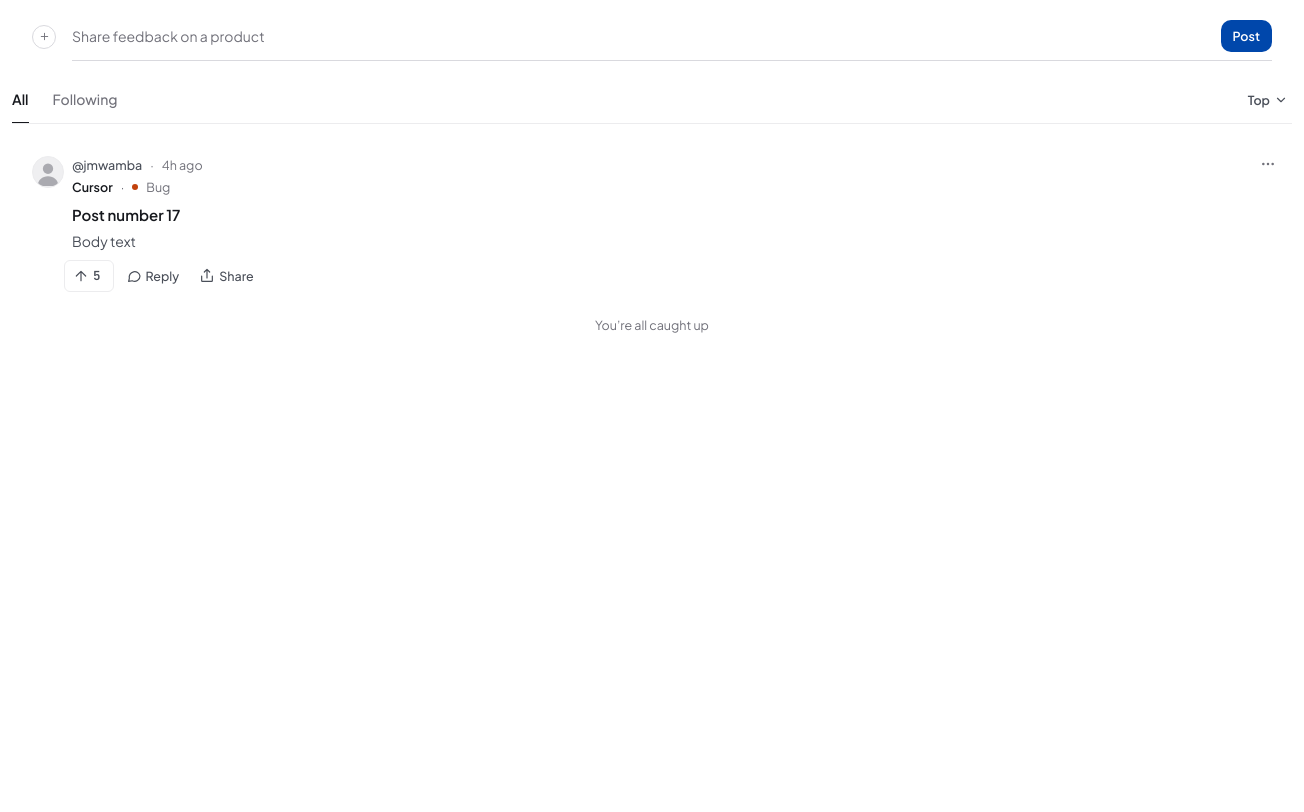
Test: voting › updates the count at once and keeps it when the write lands
The width and height of the screenshot is (1304, 812).
Click the button named "Upvote, 5 votes" at {"x": 89, "y": 276}, box [64,260,114,292]
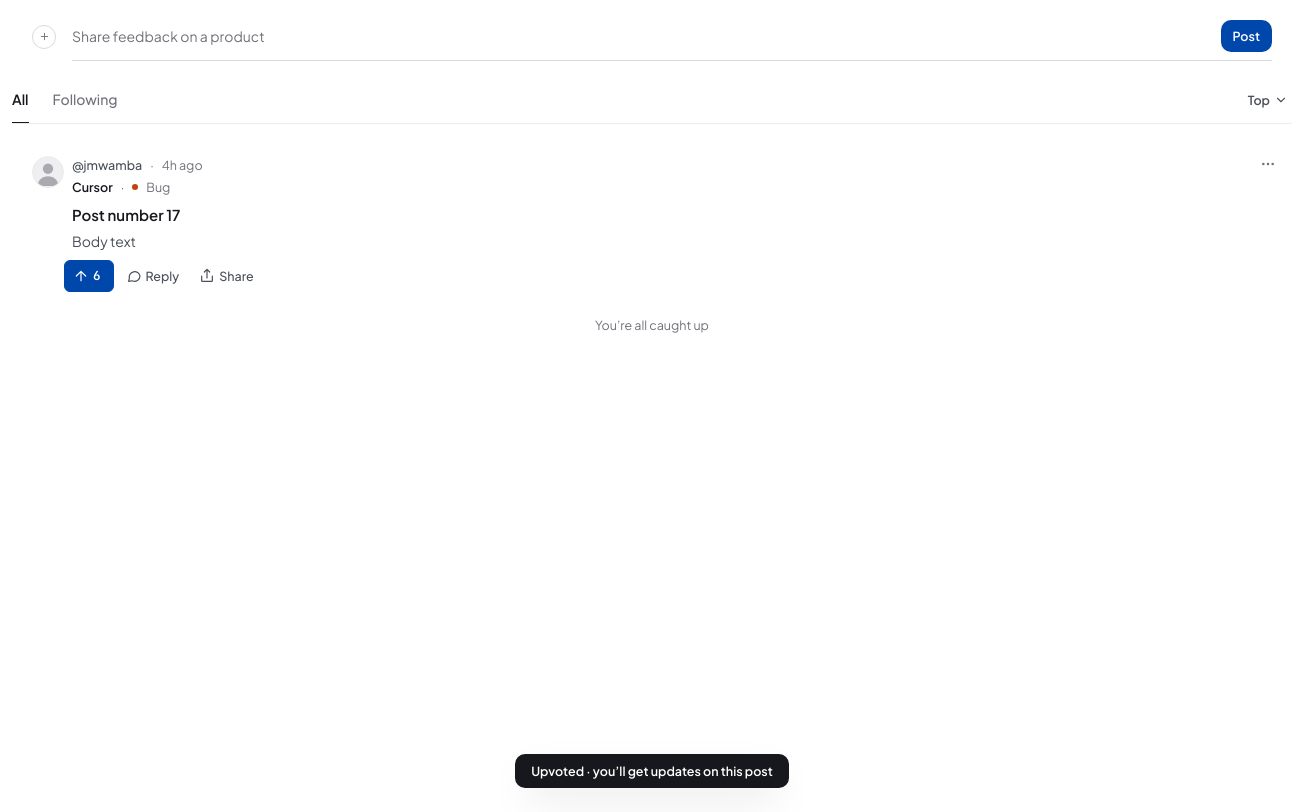
Check: the text "Upvoted · you’ll get updates on this post" is shown, box [531,762,773,780]
